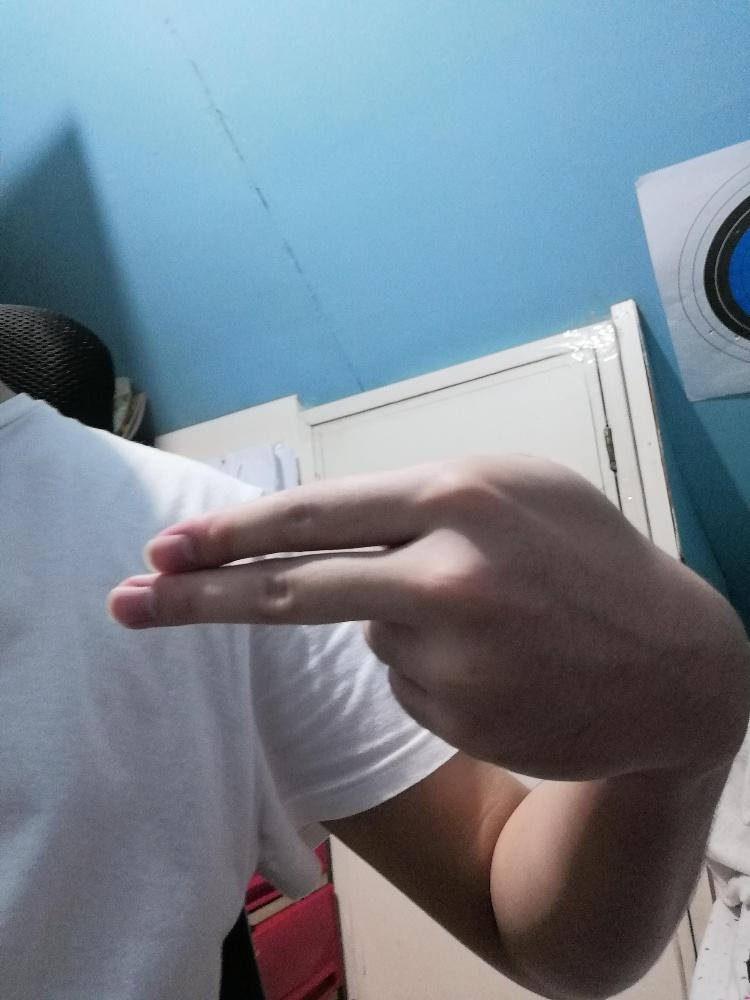h: (111, 453, 749, 783)
